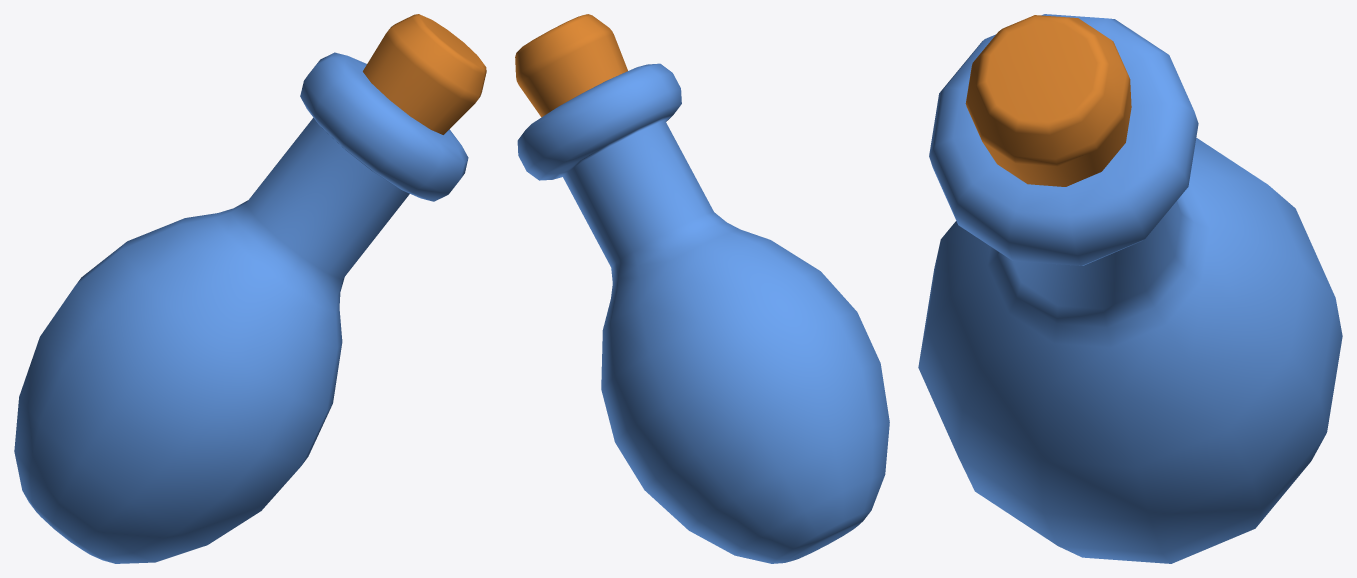
3 views of the same model, side by side, from view 1: azimuth 30°, elevation 25°; view 2: azimuth 150°, elevation 25°; view 3: azimuth 270°, elevation 25° (orthographic). The views are drawn at different scales.
Parts seen in each view (by area): view 1: model_1.107; view 2: model_1.107; view 3: model_1.107.
Part boxes in pixels (x1,y1,x2,y2): model_1.107: [14, 14, 486, 563]; model_1.107: [515, 14, 889, 563]; model_1.107: [918, 14, 1342, 563].
Size of the model in its own units: 3.83 by 4.34 by 2.39.
